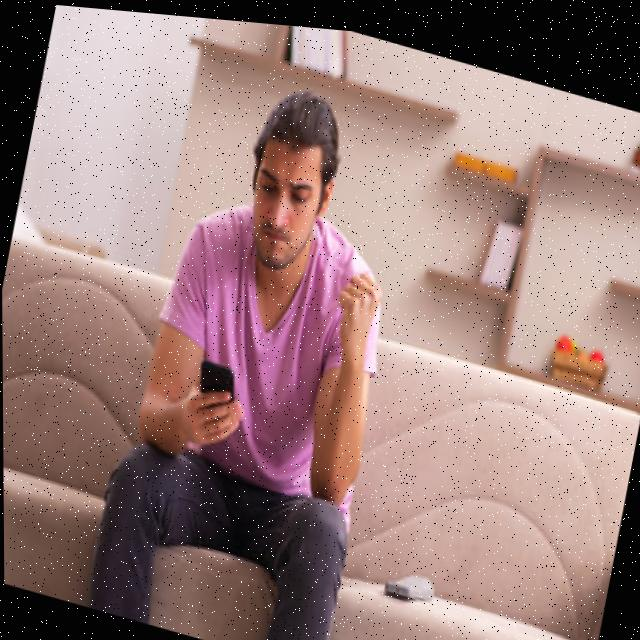smartphone-person: (78, 33, 453, 640)
